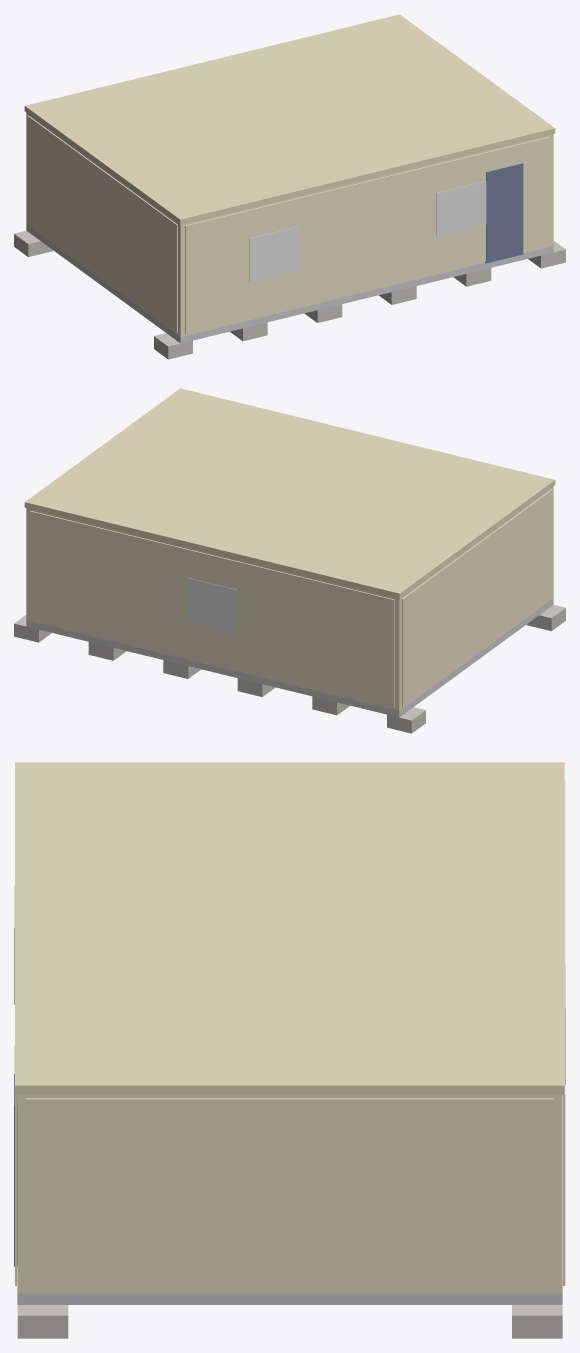
File: Studio-30-Base-RiceYellow-LOD3.glb
3 renders of one model, top to bottom at view 1: azimuth 30°, elevation 25°; view 2: azimuth 150°, elevation 25°; view 3: azimuth 270°, elevation 25°, orthographic. The views are drawn at different scales.
Visible parts, largest first — view 1: RoofMain, ExteriorPanelsStandard, WindowsStandard, BaseFrame, FoundationBlocks, ExteriorShell, EntryDoor; view 2: RoofMain, ExteriorPanelsStandard, BaseFrame, ExteriorShell, FoundationBlocks, WindowsStandard; view 3: RoofMain, ExteriorPanelsStandard, ExteriorShell, BaseFrame, FoundationBlocks.
Part boxes in pixels (<box>): RoofMain: <box>24,14,555,224</box>; ExteriorPanelsStandard: <box>27,115,549,334</box>; WindowsStandard: <box>249,181,486,281</box>; BaseFrame: <box>26,224,553,343</box>; FoundationBlocks: <box>14,230,565,359</box>; ExteriorShell: <box>26,112,553,336</box>; EntryDoor: <box>485,163,523,263</box>; RoofMain: <box>24,388,555,598</box>; ExteriorPanelsStandard: <box>30,489,552,708</box>; BaseFrame: <box>26,598,553,717</box>; ExteriorShell: <box>26,486,553,710</box>; FoundationBlocks: <box>14,604,565,733</box>; WindowsStandard: <box>187,577,236,633</box>; RoofMain: <box>15,762,564,1094</box>; ExteriorPanelsStandard: <box>15,780,565,1290</box>; ExteriorShell: <box>17,1095,562,1293</box>; BaseFrame: <box>17,1293,562,1304</box>; FoundationBlocks: <box>17,1305,562,1338</box>.
Bounding box in the file's own units: 9.6 × 3.17 × 6.53.
